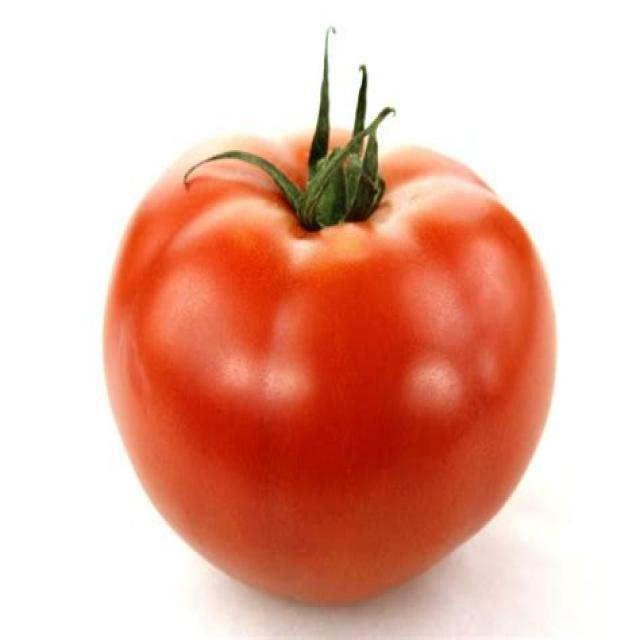Tomato: (101, 93, 559, 609)
